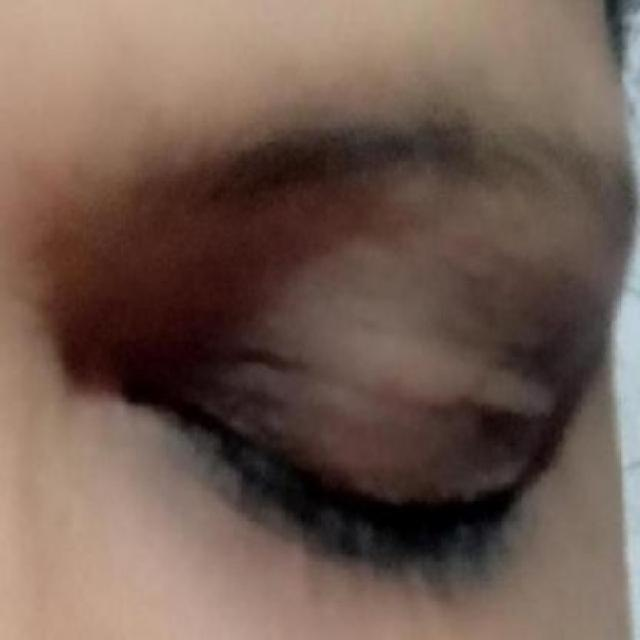drowsy: (129, 330, 545, 630)
